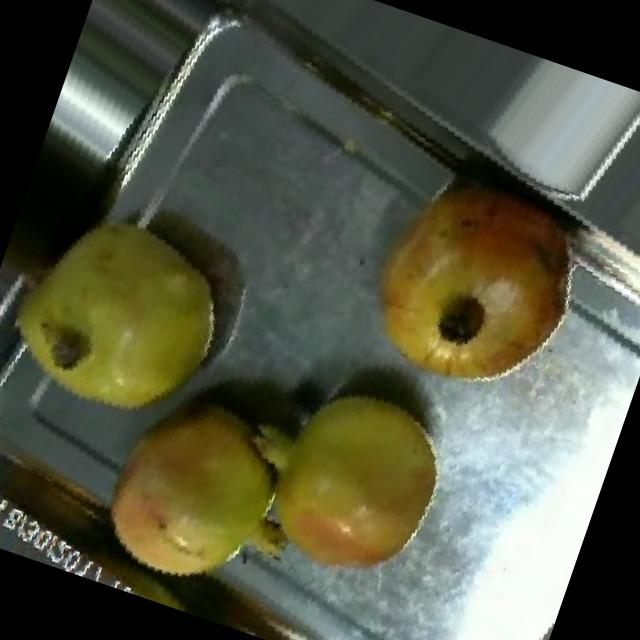fruit: (321, 128, 626, 438), (0, 152, 287, 481), (48, 339, 344, 635), (229, 348, 489, 624)
